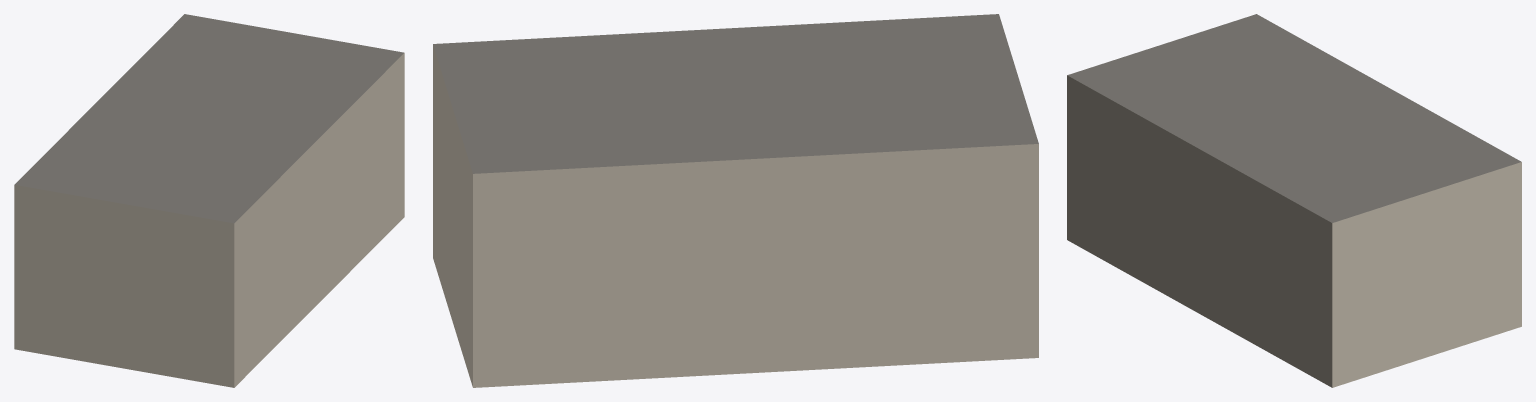
The picture shows the model from 3 angles, left to right: view 1: azimuth 30°, elevation 25°; view 2: azimuth 150°, elevation 25°; view 3: azimuth 270°, elevation 25°; orthographic projection. The views are drawn at different scales.
Visible parts, largest first — view 1: HP-w1435294174; view 2: HP-w1435294174; view 3: HP-w1435294174.
Part boxes in pixels (<box>): HP-w1435294174: <box>14,14,404,387</box>; HP-w1435294174: <box>433,14,1038,387</box>; HP-w1435294174: <box>1067,14,1521,387</box>.
Size of the model in its own units: 49 by 18 by 45.01.
